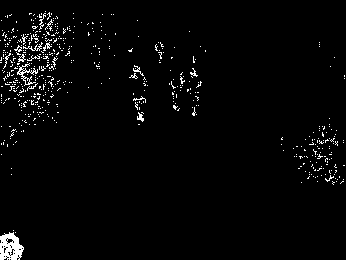person: (128, 64, 148, 126), (187, 67, 202, 115)
